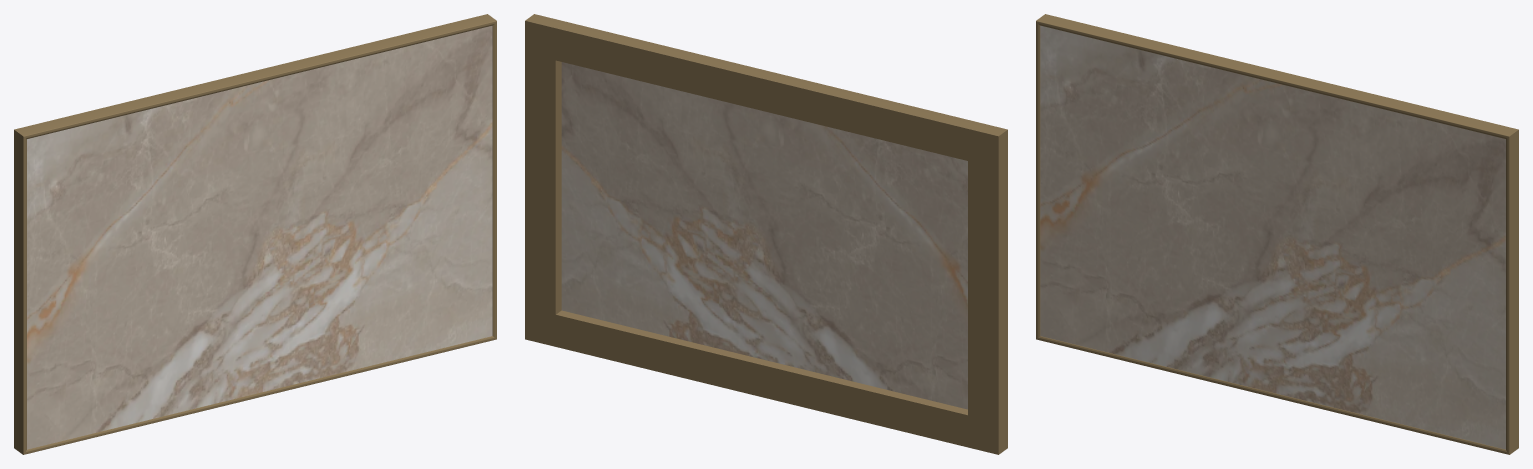
3 renders of one model, left to right at view 1: azimuth 30°, elevation 25°; view 2: azimuth 150°, elevation 25°; view 3: azimuth 330°, elevation 25°, orthographic.
Parts seen in each view (by area): view 1: Object_node, Extrusion, Extrusion_node_1, Extrusion_node_0, Extrusion_node; view 2: Object_node, Extrusion, Extrusion_node_0, Extrusion_node_1, Extrusion_node; view 3: Object_node, Extrusion, Extrusion_node, Extrusion_node_0, Extrusion_node_1.
Boxes of the visible parts, bbox=[...] form: Object_node: bbox=[27, 25, 492, 449]; Extrusion: bbox=[14, 14, 496, 138]; Extrusion_node_1: bbox=[14, 130, 26, 454]; Extrusion_node_0: bbox=[24, 336, 496, 454]; Extrusion_node: bbox=[492, 21, 496, 338]; Object_node: bbox=[561, 62, 967, 409]; Extrusion: bbox=[525, 14, 1007, 160]; Extrusion_node_0: bbox=[525, 310, 998, 454]; Extrusion_node_1: bbox=[968, 130, 1007, 454]; Extrusion_node: bbox=[525, 21, 561, 338]; Object_node: bbox=[1040, 25, 1505, 449]; Extrusion: bbox=[1036, 14, 1518, 138]; Extrusion_node: bbox=[1506, 130, 1518, 454]; Extrusion_node_0: bbox=[1036, 336, 1508, 454]; Extrusion_node_1: bbox=[1036, 21, 1040, 338].
Size of the model in its own units: 0.7 by 0.45 by 0.0242.
Materials: 2 (1 with a texture image).
